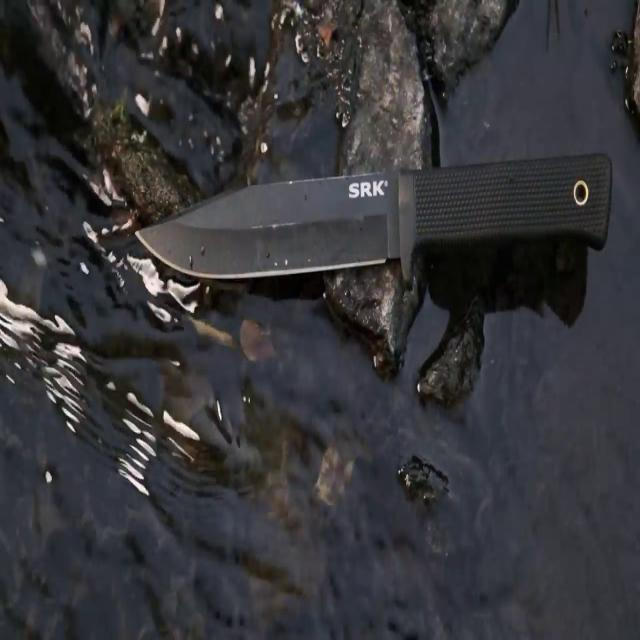Knife: (131, 136, 626, 302)
